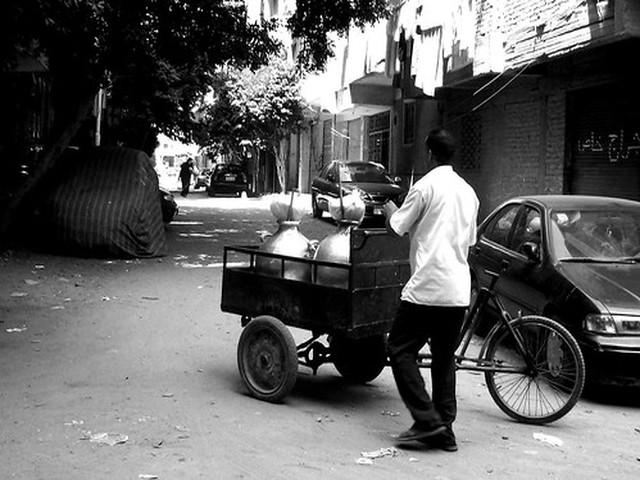Person: (383, 123, 485, 460), (174, 156, 200, 196)
